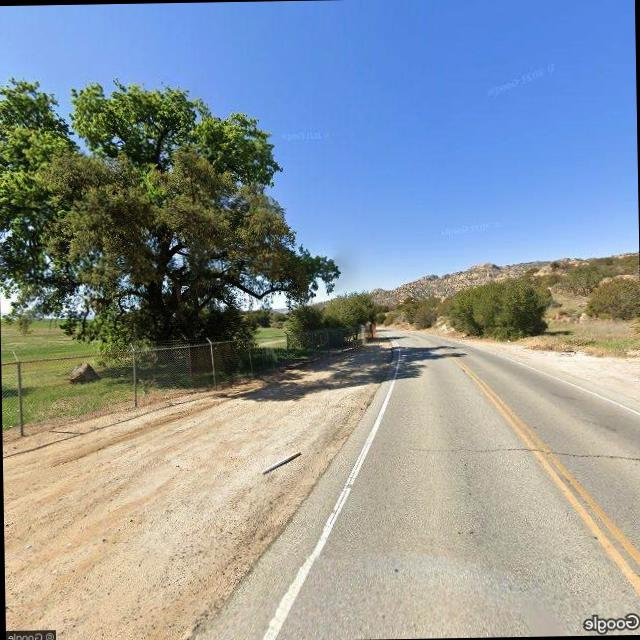crack: (411, 436, 640, 470)
